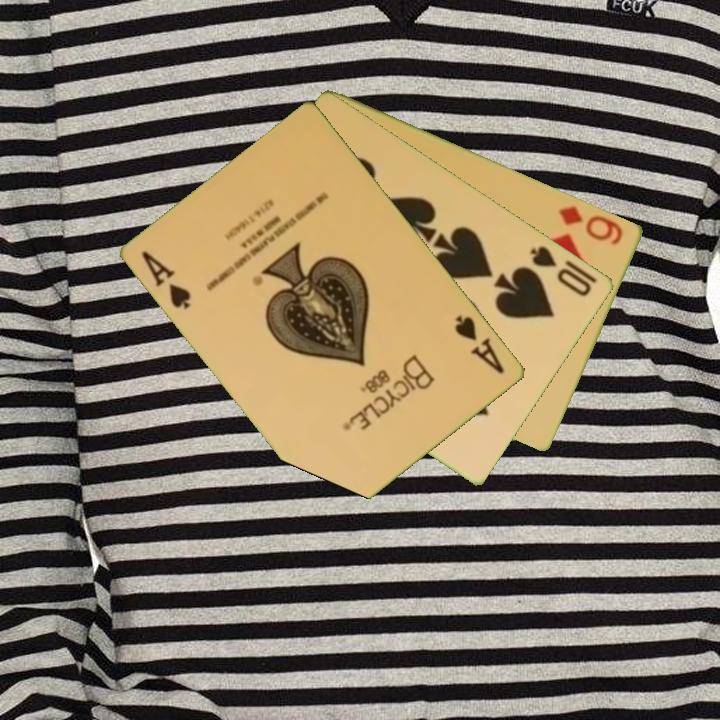10s: (526, 242, 595, 299)
6d: (555, 202, 626, 248)
As: (138, 247, 195, 312), (452, 311, 508, 377)
